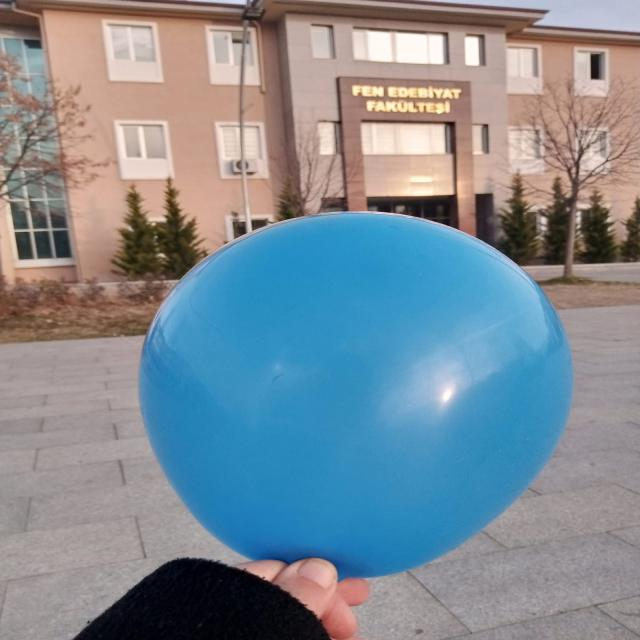balloon: (138, 213, 573, 578)
